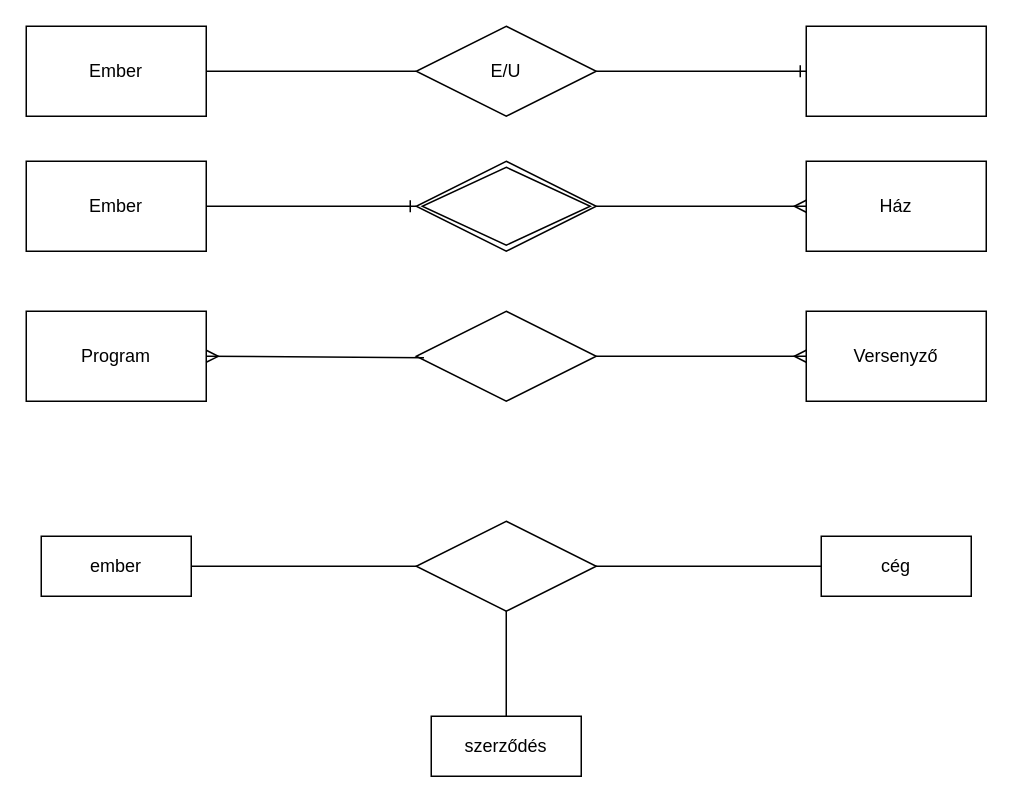
The diagram is 1013 pixels wide and 803 high, and some of its shapes have lost their labels. Here are the shapes that lost their labels. From the top down, the centre of each, then its label:
At (x=895, y=70): "Ujjlenyomat".
At (x=505, y=205): "birtokol".
At (x=505, y=355): "fut".
At (x=505, y=565): "aláír".
